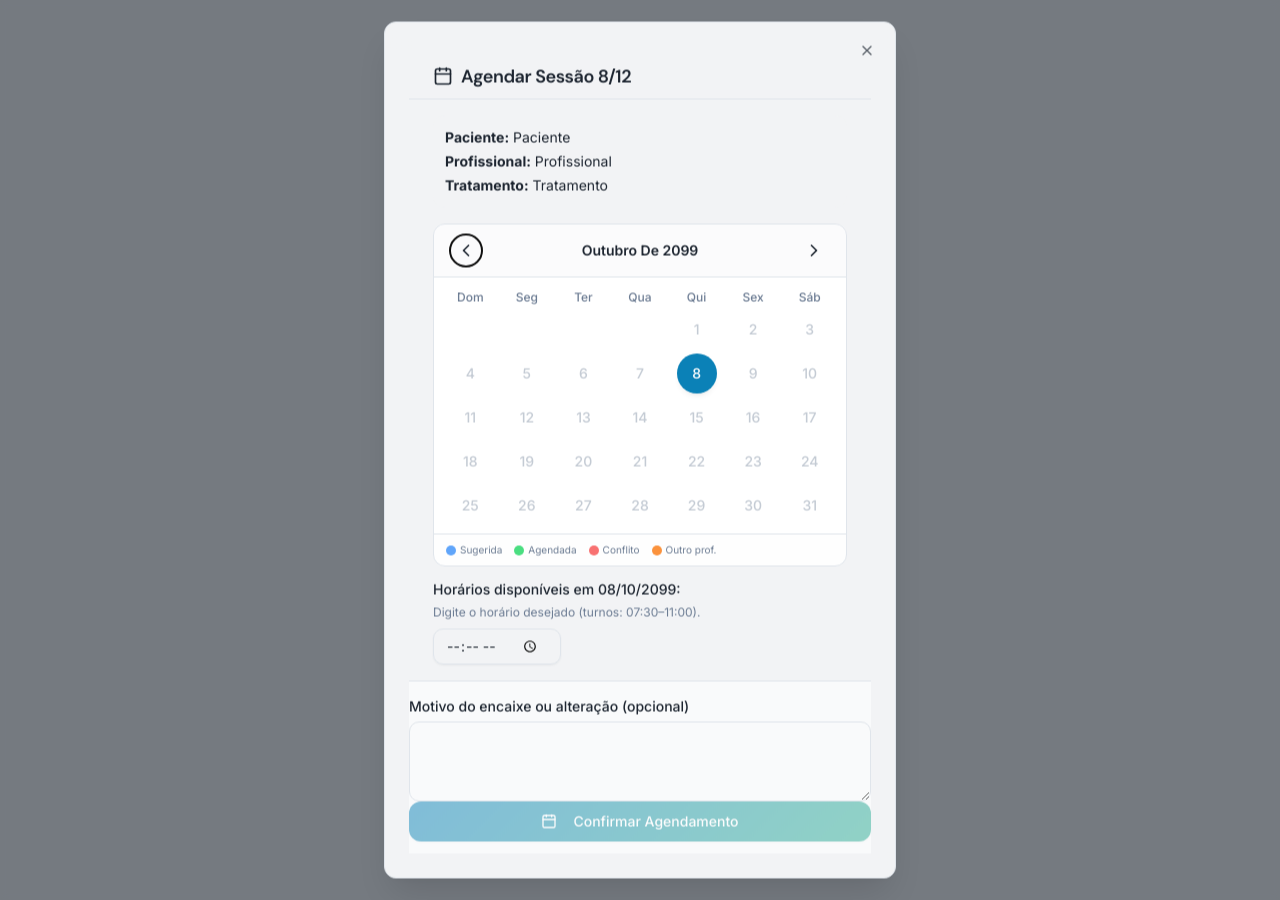
Test: ModalAgendarSessao › permite encaixe manual no turno cheio sem exigir motivo quando autorizado
Later steps or results of the test are not shown.
Type "08:00" into the time field.
click(497, 646); type("08:00")  # box [433,628,561,664]
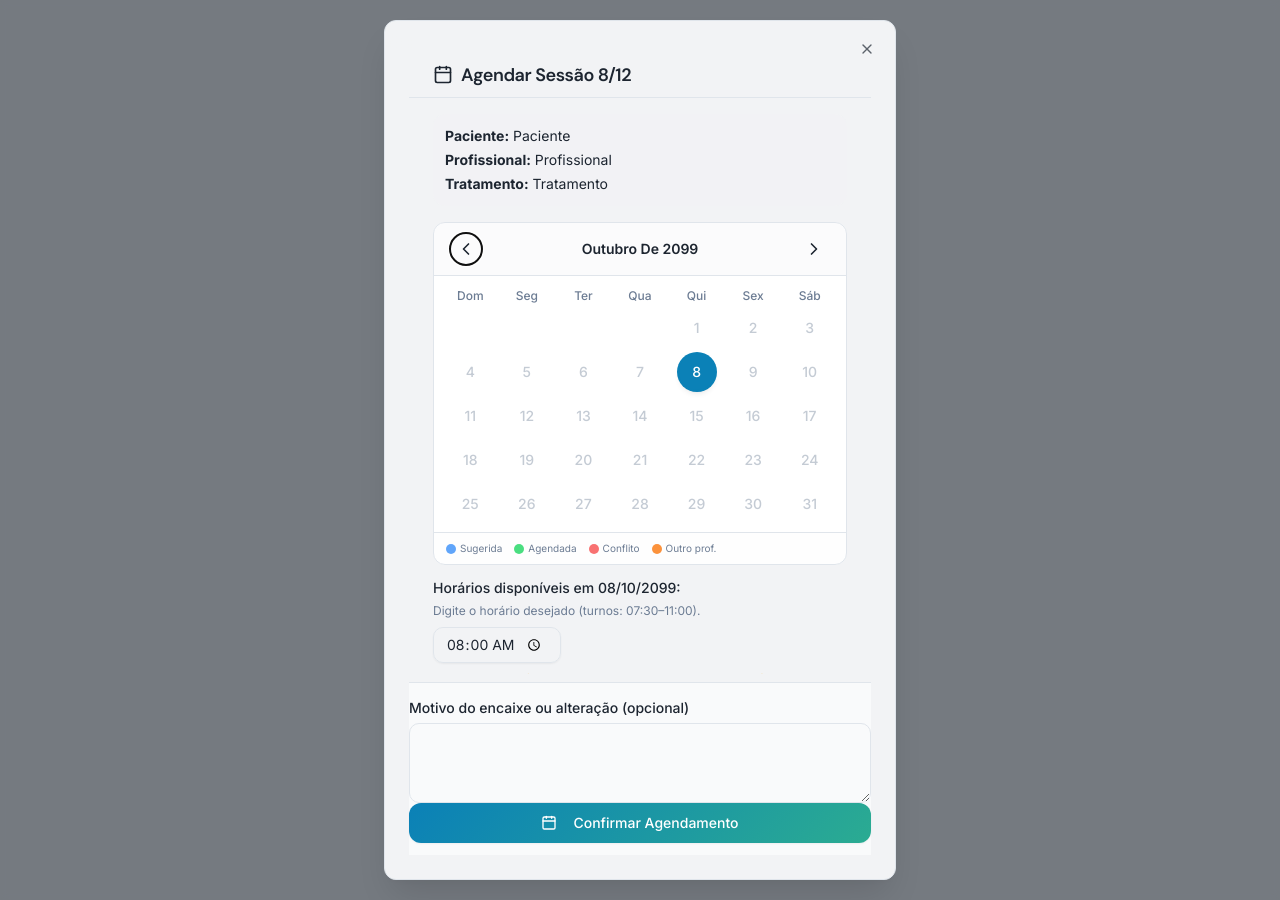
Expected: the text box labelled "Motivo do encaixe ou alteração (opcional)" is empty, [409,723,871,803]
Expected: the button "Confirmar Agendamento" is enabled, [409,803,871,843]
